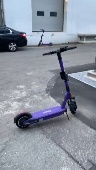beam: (13, 46, 80, 130), (37, 28, 54, 47)
